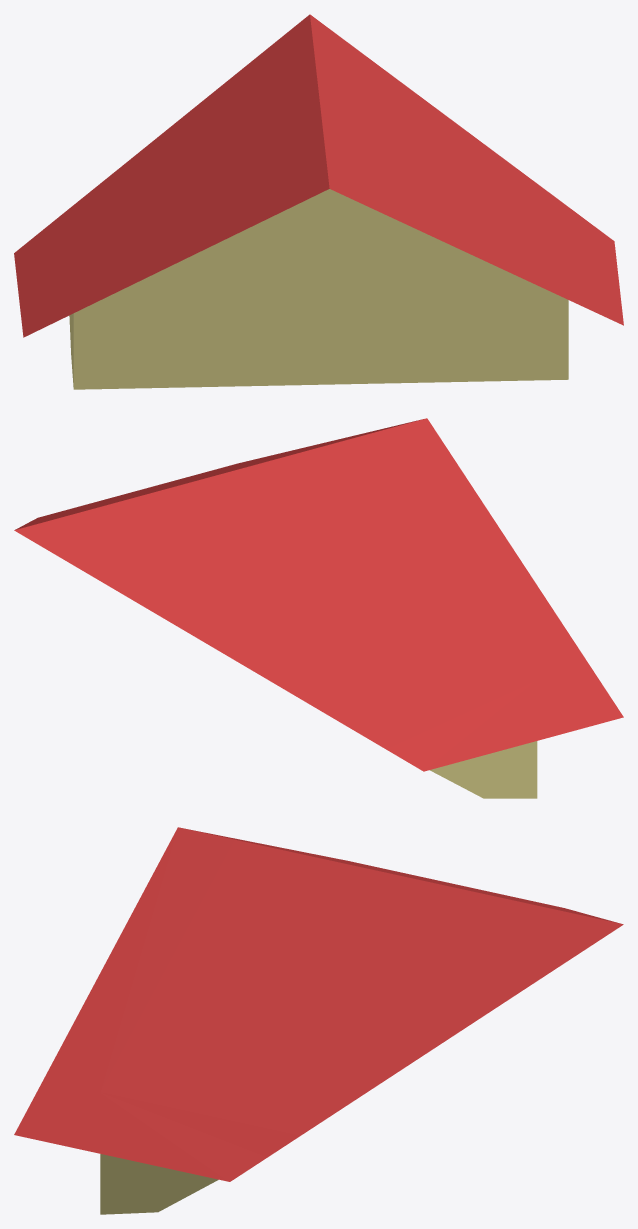
3 views of the same model, one above another, from view 1: azimuth 30°, elevation 25°; view 2: azimuth 150°, elevation 25°; view 3: azimuth 270°, elevation 25° (orthographic). The views are drawn at different scales.
Parts seen in each view (by area): view 1: group_3, group_5, group_4; view 2: group_3, group_5, group_4; view 3: group_3, group_5, group_4.
Part boxes in pixels (box(x1,y1,x2,y2)): group_3: box(14, 14, 623, 337); group_5: box(69, 189, 568, 389); group_4: box(14, 18, 608, 334); group_3: box(14, 418, 623, 771); group_5: box(429, 741, 537, 798); group_4: box(20, 482, 620, 769); group_3: box(14, 827, 623, 1181); group_5: box(100, 1154, 218, 1214); group_4: box(101, 866, 621, 1175).
Size of the model in its own units: 8.89 by 7.14 by 3.42.
